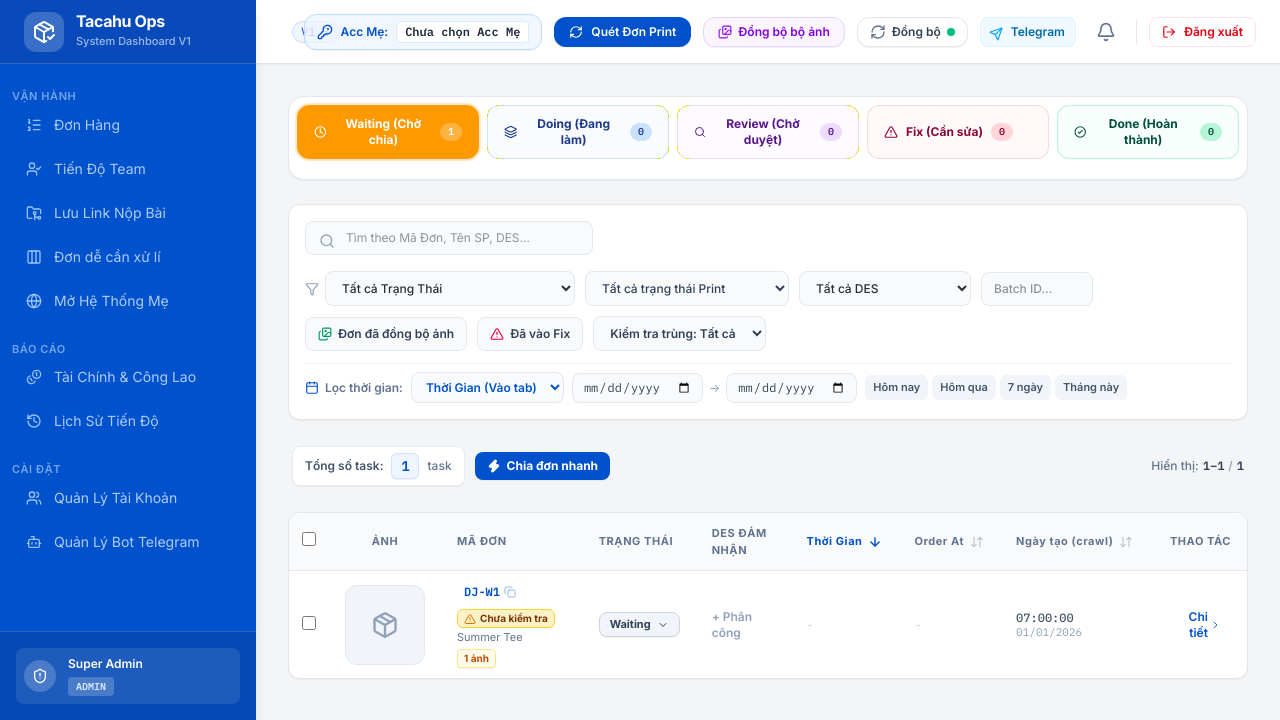
Scenario: OrdersListPage › renders Chia đơn nhanh button for admin on waiting tab and opens quick distribute modal
Expected: the text "DJ-W1" is shown, x1=464 y1=584 x2=500 y2=600
// Click it to open modal
Click the button "Chia đơn nhanh" at (542, 466), box x1=475 y1=452 x2=610 y2=480
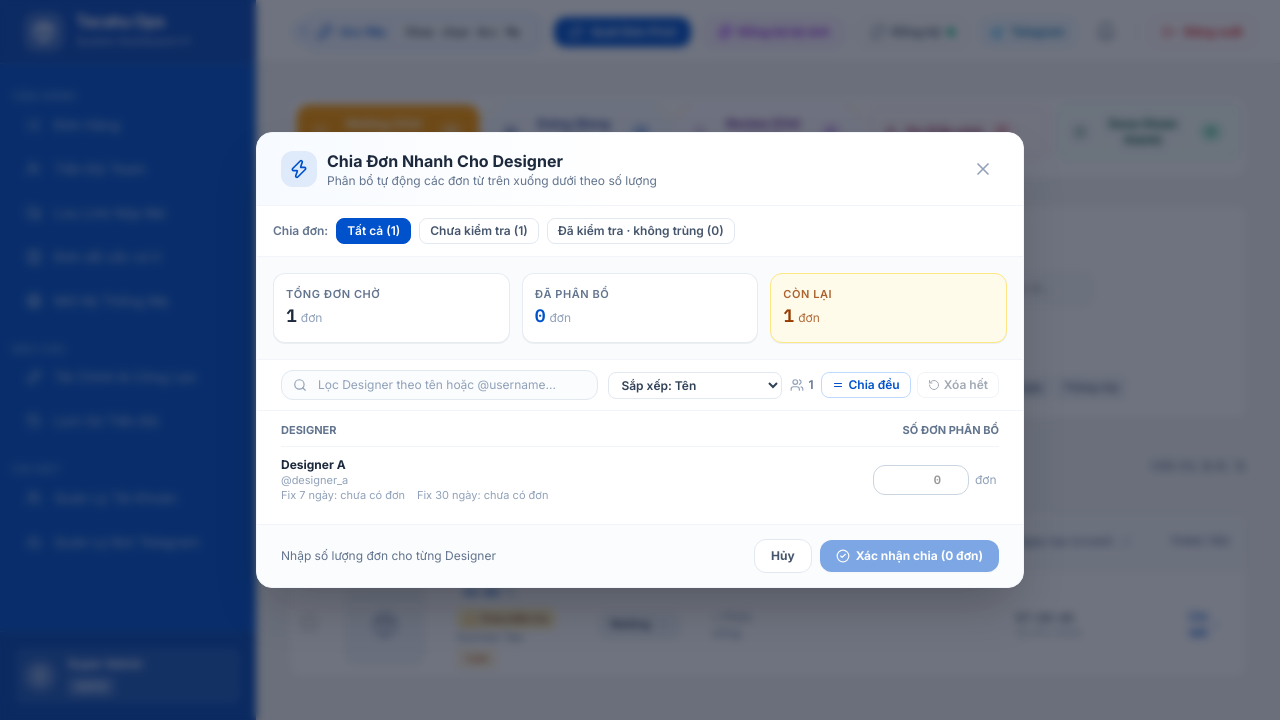
Now the heading "Chia Đơn Nhanh Cho Designer" is shown, box x1=327 y1=151 x2=563 y2=171
Now the text "Designer A" is shown, box x1=281 y1=457 x2=346 y2=472
